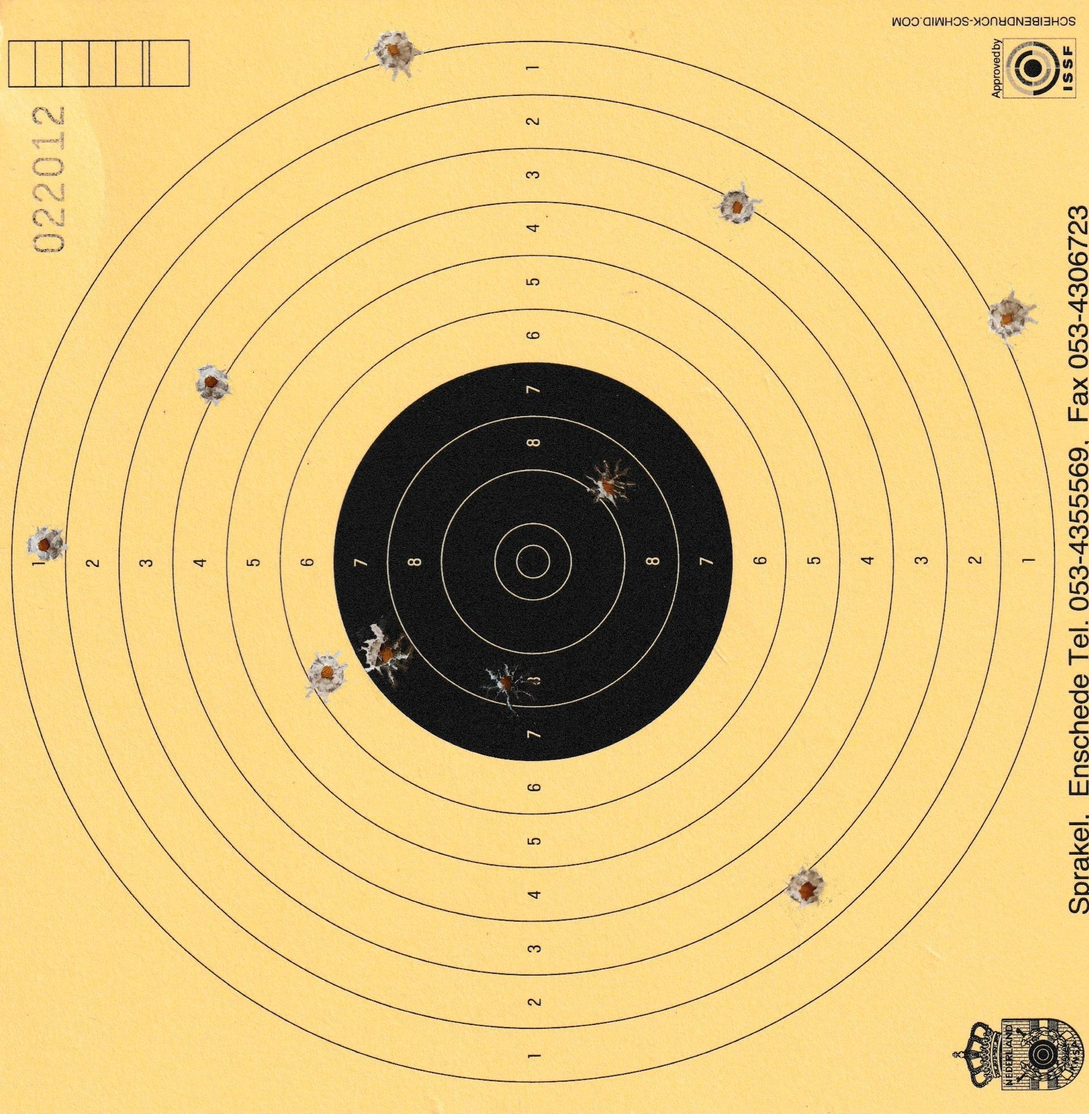hole: (978, 286, 1043, 348), (481, 655, 540, 720), (579, 453, 645, 511), (360, 623, 417, 689), (367, 22, 426, 84), (302, 648, 351, 705), (712, 180, 762, 229), (780, 860, 829, 910), (190, 360, 236, 408), (26, 520, 69, 566)
